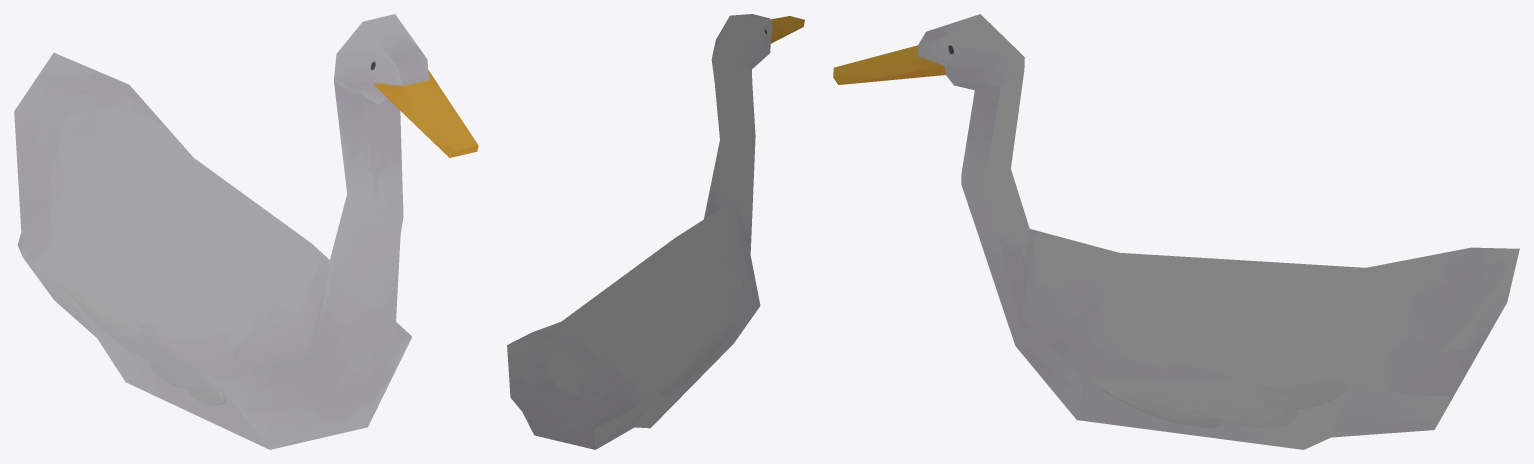
Rendered from duck1.fbx.
3 renders of one model, left to right at view 1: azimuth 30°, elevation 25°; view 2: azimuth 150°, elevation 25°; view 3: azimuth 270°, elevation 25°, orthographic. The views are drawn at different scales.
Parts seen in each view (by area): view 1: duck_puddle:Ducky3; view 2: duck_puddle:Ducky3; view 3: duck_puddle:Ducky3.
Part boxes in pixels (bbox=[...]): duck_puddle:Ducky3: bbox=[14, 14, 478, 449]; duck_puddle:Ducky3: bbox=[507, 14, 804, 449]; duck_puddle:Ducky3: bbox=[833, 14, 1519, 449].
Size of the model in its own units: 0.9775 by 2.33 by 3.57.
1 material, 1 textured.
